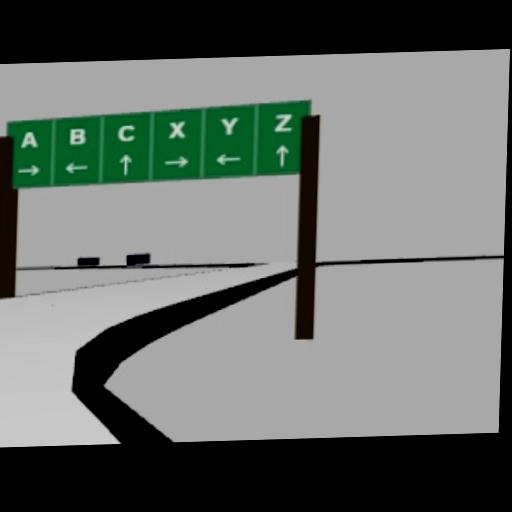A: (19, 130, 39, 150)
B: (68, 127, 86, 144)
C: (117, 122, 137, 142)
Left: (213, 153, 243, 166), (62, 160, 90, 173)
Right: (161, 155, 191, 169), (15, 164, 41, 176)
Straight: (274, 142, 290, 167), (118, 152, 134, 176)
X: (167, 119, 187, 138)
Y: (218, 115, 238, 135)
Z: (272, 113, 292, 132)
